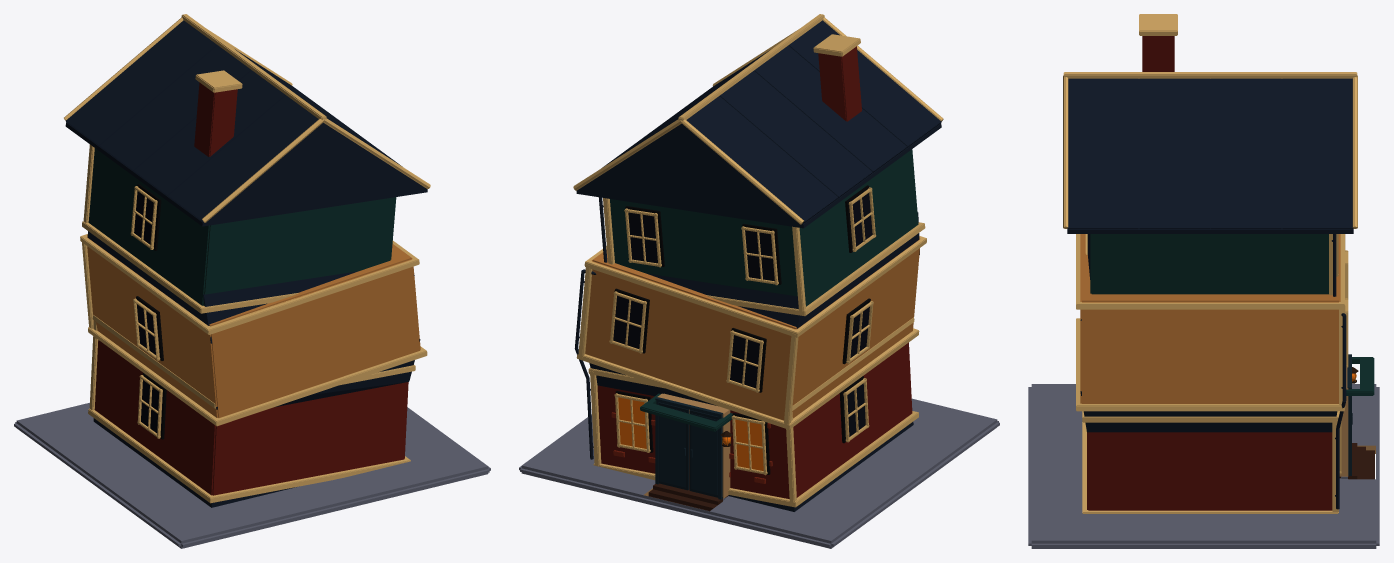
Rendered from wonky-townhouse-visual.obj.
The picture shows the model from 3 angles, left to right: view 1: azimuth 30°, elevation 25°; view 2: azimuth 150°, elevation 25°; view 3: azimuth 270°, elevation 25°; orthographic projection. The views are drawn at different scales.
Parts seen in each view (by area): view 1: Tilted_steep_roof, Storey2, Storey1, Storey3, Foundation_01, ConnectingCollars, UpperChimney; view 2: Tilted_steep_roof, Storey2, Storey3, Storey1, Foundation_01, ConnectingCollars, UpperChimney, HouseDoorLeaf_R_Panel, HouseDoorLeaf_L_Panel, EntryCanopy_01, AttachedDownpipes, HouseDoorLeaf_L; view 3: Tilted_steep_roof, Storey2, Storey1, Foundation_01, Storey3, ConnectingCollars, UpperChimney, AttachedDownpipes, EntryCanopy_01, WalkPassageLeft.
Part boxes in pixels (box(x1,y1,x2,y2)): Tilted_steep_roof: box(64, 14, 430, 226); Storey2: box(80, 234, 427, 426); Storey1: box(88, 315, 415, 503); Storey3: box(82, 144, 396, 313); Foundation_01: box(14, 402, 490, 548); ConnectingCollars: box(87, 231, 420, 507); UpperChimney: box(194, 70, 242, 156); Tilted_steep_roof: box(573, 14, 943, 228); Storey2: box(576, 236, 926, 429); Storey3: box(603, 149, 925, 316); Storey1: box(588, 317, 918, 507); Foundation_01: box(519, 398, 999, 548); ConnectingCollars: box(575, 212, 919, 511); UpperChimney: box(813, 34, 861, 121); HouseDoorLeaf_R_Panel: box(691, 413, 717, 495); HouseDoorLeaf_L_Panel: box(659, 408, 685, 487); EntryCanopy_01: box(640, 393, 732, 431); AttachedDownpipes: box(574, 197, 607, 459); HouseDoorLeaf_L: box(658, 402, 689, 490); Tilted_steep_roof: box(1063, 72, 1357, 233); Storey2: box(1076, 234, 1348, 411); Storey1: box(1082, 411, 1341, 513); Foundation_01: box(1028, 384, 1379, 548); Storey3: box(1085, 234, 1338, 295); ConnectingCollars: box(1080, 234, 1345, 432); UpperChimney: box(1139, 14, 1177, 71); AttachedDownpipes: box(1331, 234, 1346, 509); EntryCanopy_01: box(1346, 357, 1374, 395); WalkPassageLeft: box(1339, 396, 1348, 476).
Bounding box in the file's own units: 29 × 35.79 × 27.
